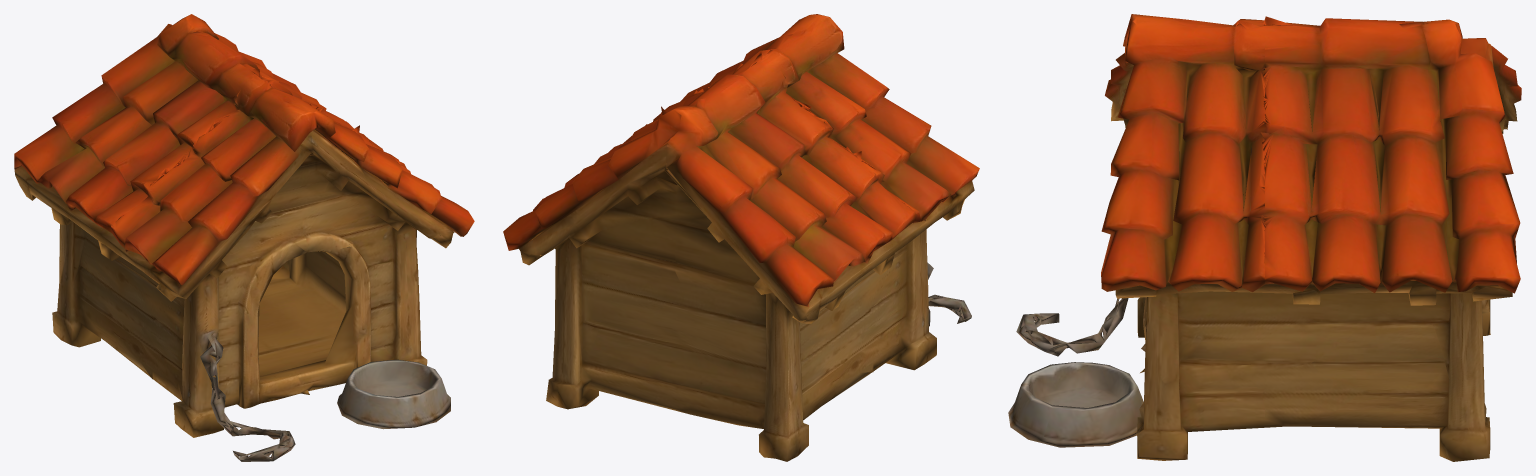
The model's file is kulube-tripo.glb.
3 renders of one model, left to right at view 1: azimuth 30°, elevation 25°; view 2: azimuth 150°, elevation 25°; view 3: azimuth 270°, elevation 25°, orthographic. The views are drawn at different scales.
Parts seen in each view (by area): view 1: tripo_node_3f64388c-187f-4cd9-8d30-ee7aa33db406; view 2: tripo_node_3f64388c-187f-4cd9-8d30-ee7aa33db406; view 3: tripo_node_3f64388c-187f-4cd9-8d30-ee7aa33db406.
Boxes of the visible parts, x1=… form: tripo_node_3f64388c-187f-4cd9-8d30-ee7aa33db406: x1=14, y1=14, x2=474, y2=461; tripo_node_3f64388c-187f-4cd9-8d30-ee7aa33db406: x1=503, y1=14, x2=979, y2=461; tripo_node_3f64388c-187f-4cd9-8d30-ee7aa33db406: x1=1008, y1=14, x2=1521, y2=461.
Bounding box in the file's own units: 0.8222 × 0.7918 × 0.9807.
1 material, 1 textured.
